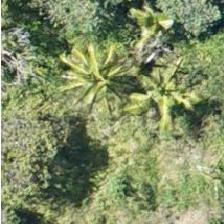coconut_tree: (122, 55, 212, 145), (46, 24, 136, 114)
